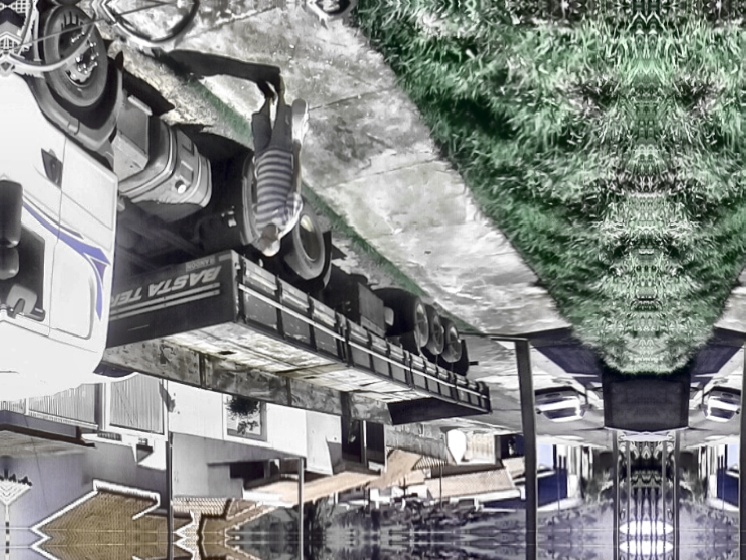person: (244, 71, 303, 258)
